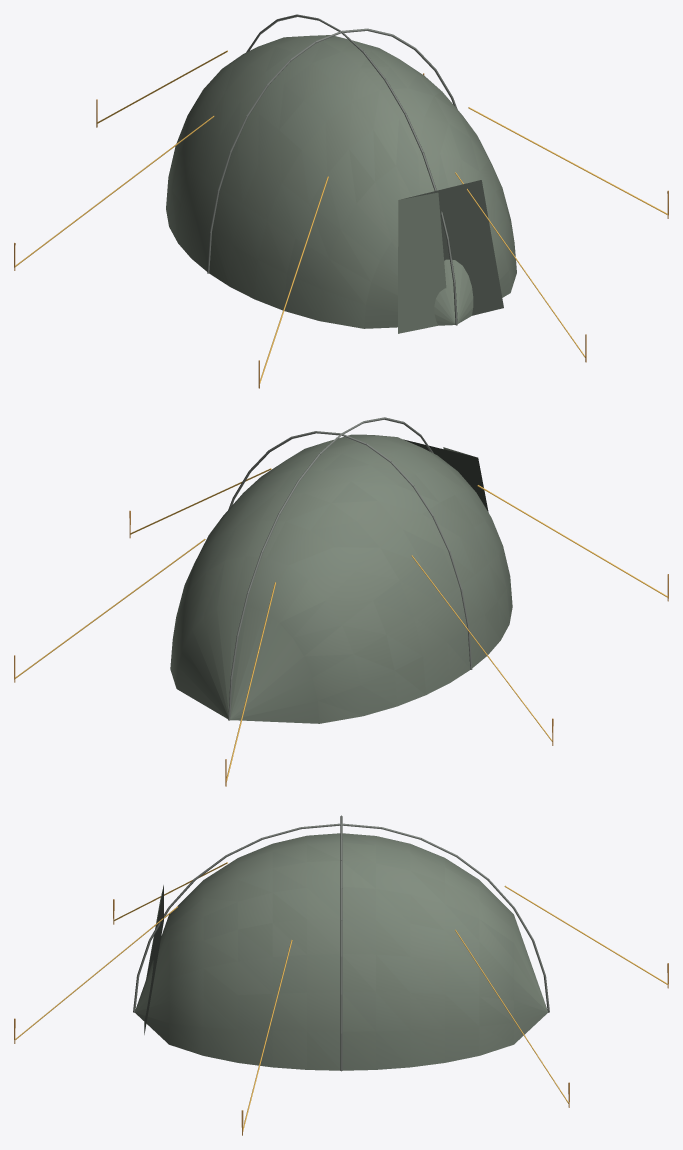
Rendered from wren_tent_a.glb.
3 views of the same model, one above another, from view 1: azimuth 30°, elevation 25°; view 2: azimuth 150°, elevation 25°; view 3: azimuth 270°, elevation 25° (orthographic). The views are drawn at different scales.
Parts seen in each view (by area): view 1: body; view 2: body; view 3: body.
Boxes of the visible parts, bbox=[...] form: body: bbox=[14, 14, 668, 388]; body: bbox=[14, 417, 668, 786]; body: bbox=[14, 815, 668, 1135].
Size of the model in its own units: 2.87 by 1.08 by 3.32.
